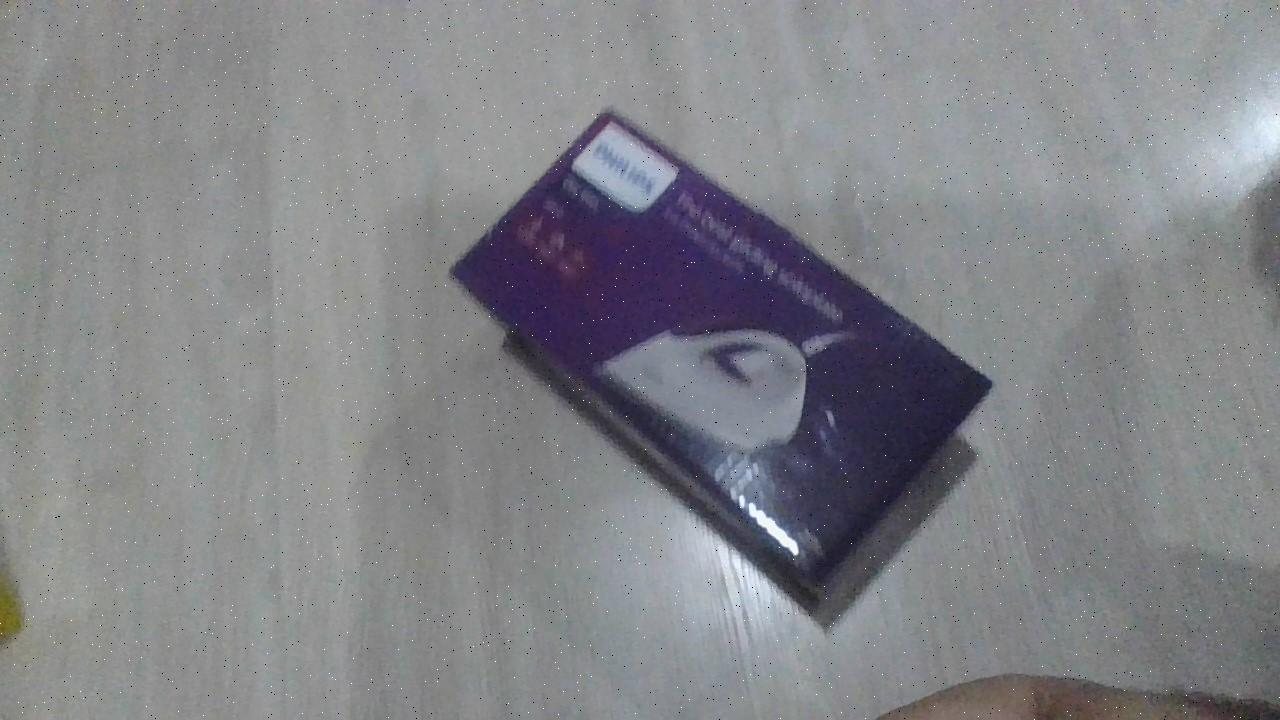IRON: (444, 105, 996, 637)
